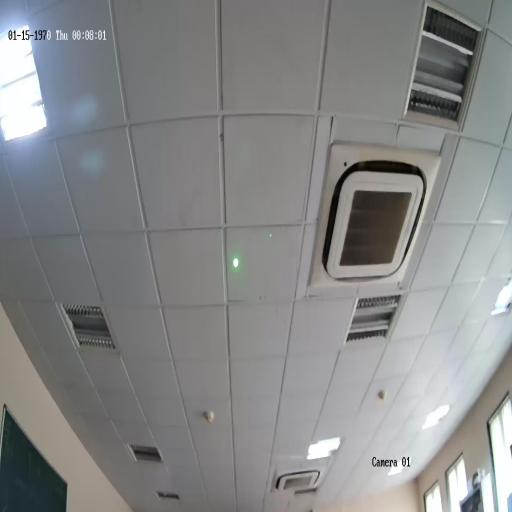laser: (232, 256, 239, 269)
